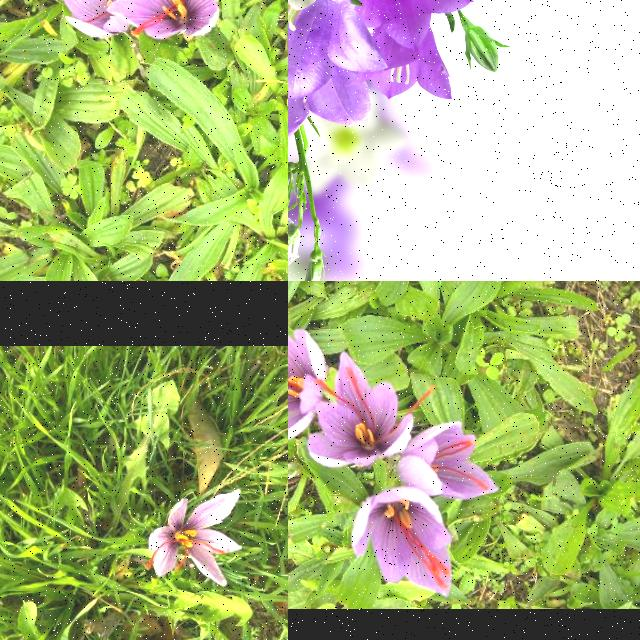flower: (307, 351, 437, 469), (351, 486, 453, 598), (145, 489, 243, 587), (394, 421, 500, 502), (288, 320, 327, 443), (107, 0, 220, 40), (59, 0, 139, 38)
